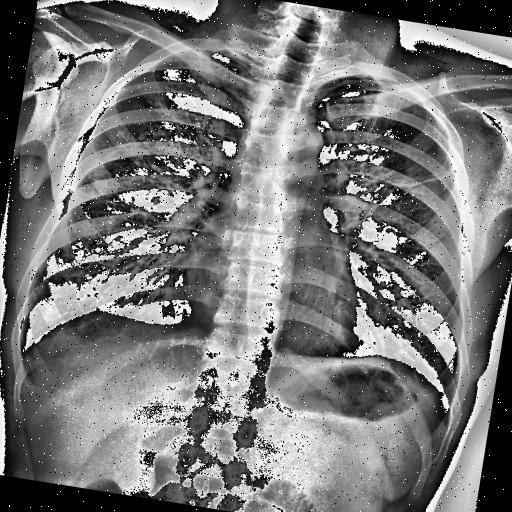11- Pleural thickening: (384, 76, 428, 104)
13- Pulmonary fibrosis: (387, 155, 457, 196), (382, 160, 450, 195), (392, 162, 454, 198)
